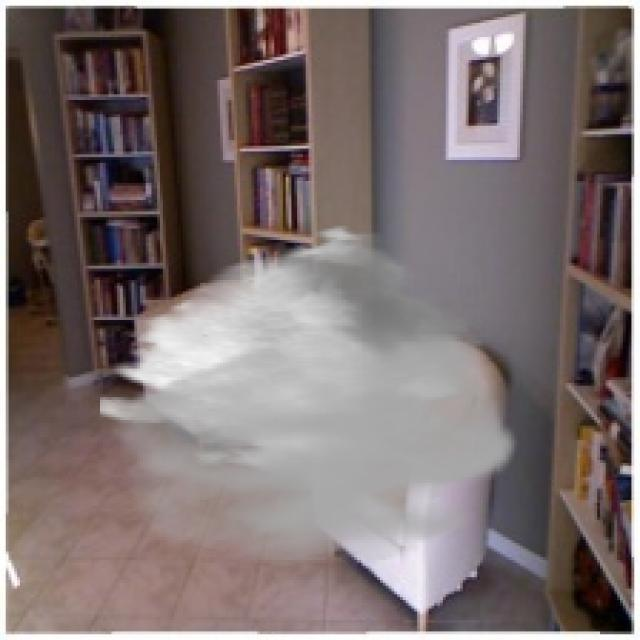Smoke: (100, 223, 523, 566)
